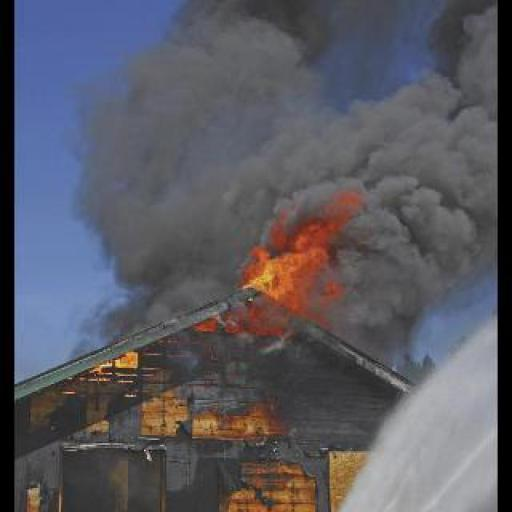smoke: (78, 4, 496, 339), (192, 188, 370, 342), (80, 344, 142, 376)
